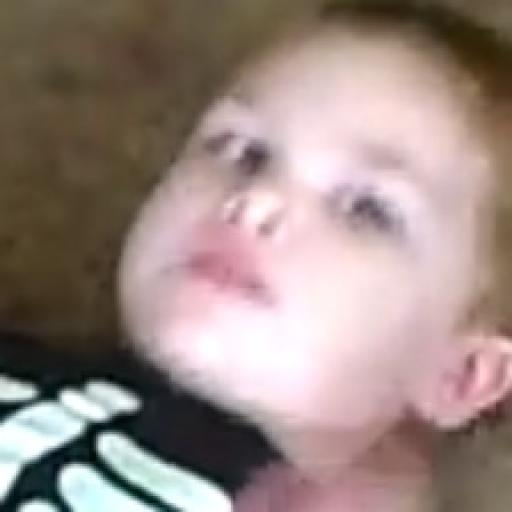Autism: (77, 20, 512, 458)
